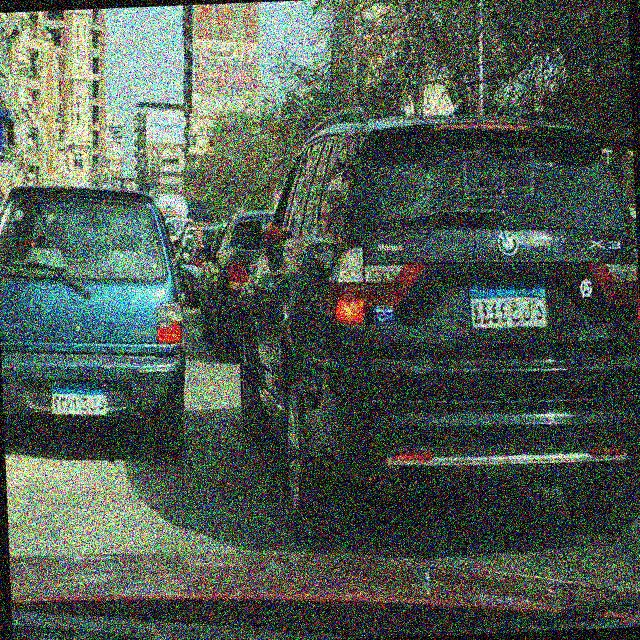License Plate: (464, 273, 552, 335), (47, 372, 111, 422)
